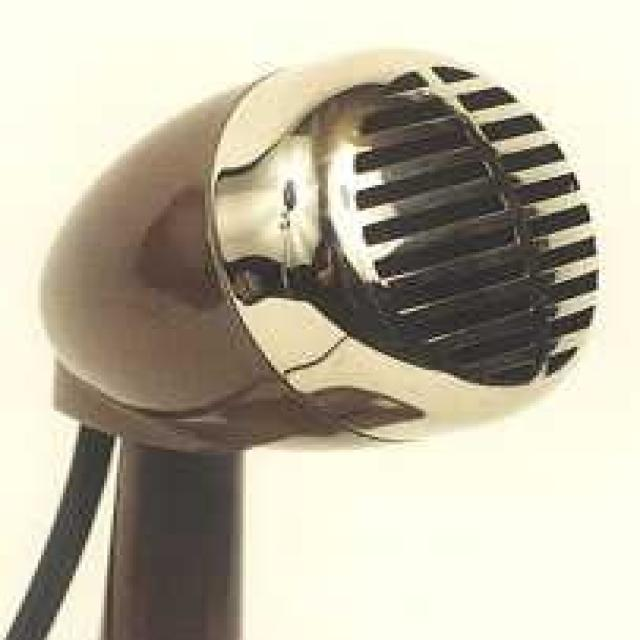microphone: (36, 54, 592, 454)
